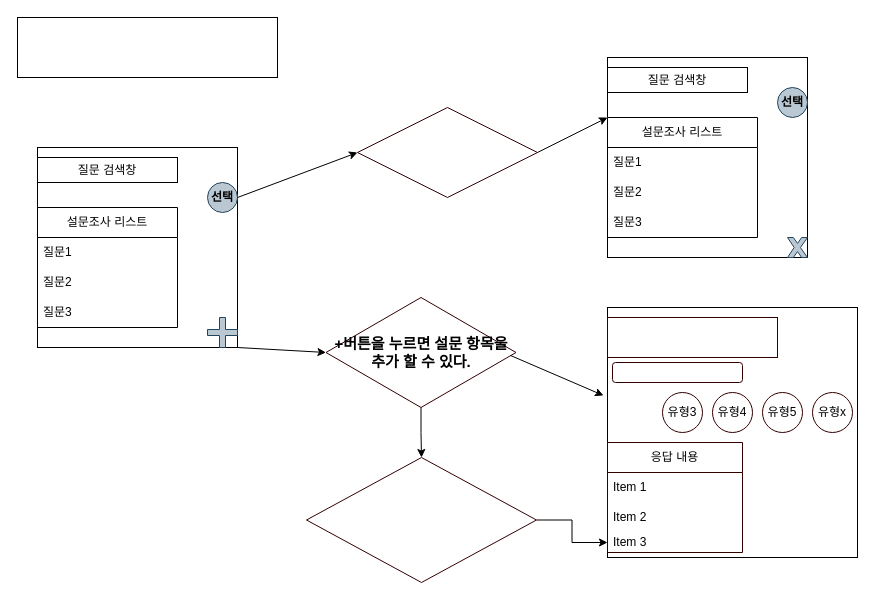
The diagram is 875 pixels wide and 600 high, and some of its shapes have lost their labels. Each missing label, with the centre of its shape:
"선택 버튼을 누르면 선택된 설문항목을 지울 수 있다." belongs at (447,152).
"설문 유형(질문 개수)" belongs at (677,372).
"설문조사 리스트를 추가하거나 삭제할 수 있다." belongs at (147,47).
"추가하고 싶은 설문내용" belongs at (692,337).
"추가하고 싶은 설문내용을 적고 유형 개수를 선택한뒤 그 유형에 맞는 응답 내용을 추가한다." belongs at (421,519).
